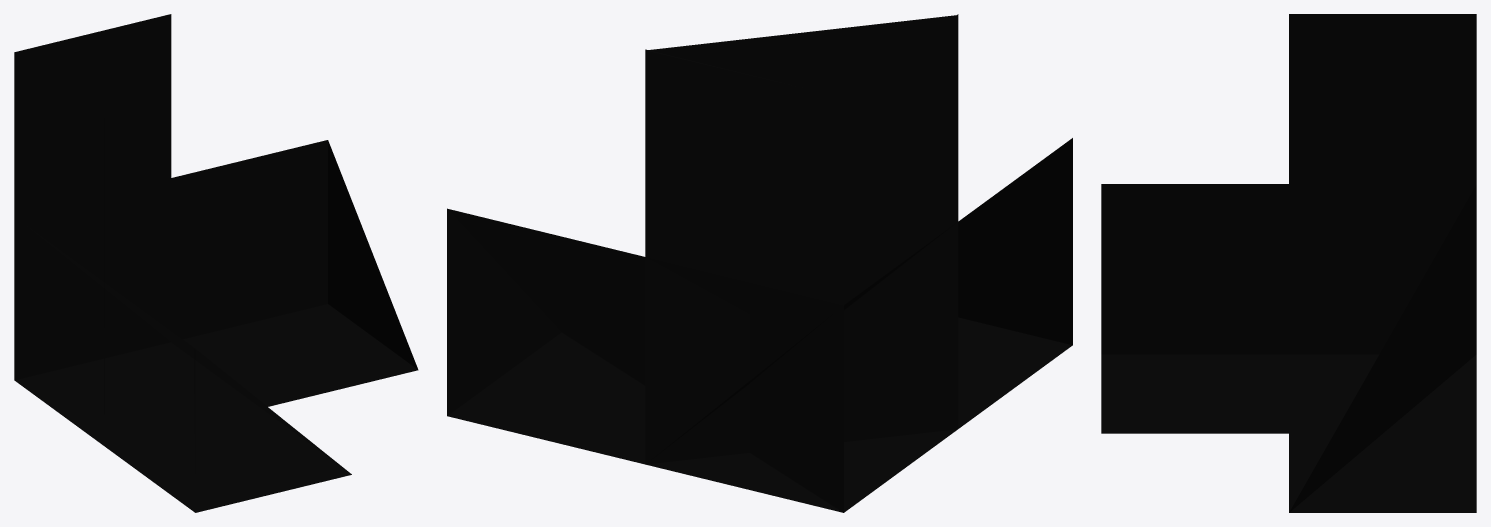
The model's file is r5c5_border_black.gltf.
The picture shows the model from 3 angles, left to right: view 1: azimuth 30°, elevation 25°; view 2: azimuth 150°, elevation 25°; view 3: azimuth 270°, elevation 25°; orthographic projection. The views are drawn at different scales.
Visible parts, largest first — view 1: r5c5_border_black; view 2: r5c5_border_black; view 3: r5c5_border_black.
Boxes of the visible parts, bbox=[...] form: r5c5_border_black: bbox=[14, 14, 418, 512]; r5c5_border_black: bbox=[447, 14, 1072, 512]; r5c5_border_black: bbox=[1101, 14, 1476, 512].
Bounding box in the file's own units: 2.1 × 2.1 × 2.1.
1 material, 1 textured.
